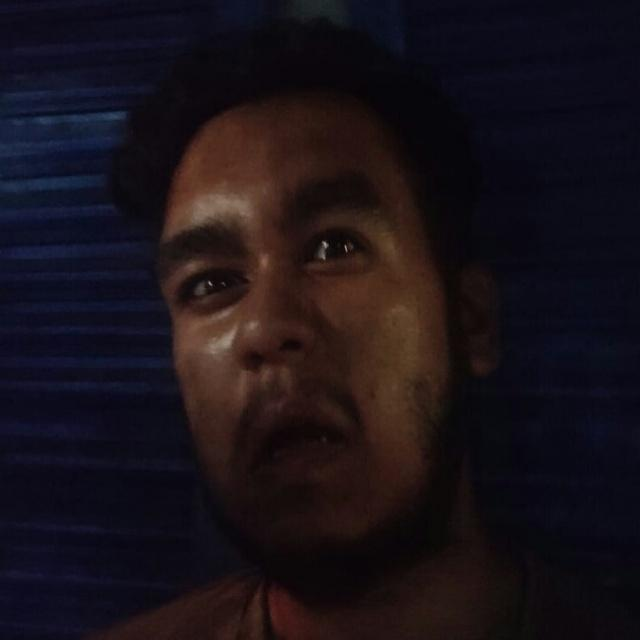Disgust: (90, 30, 520, 581)
